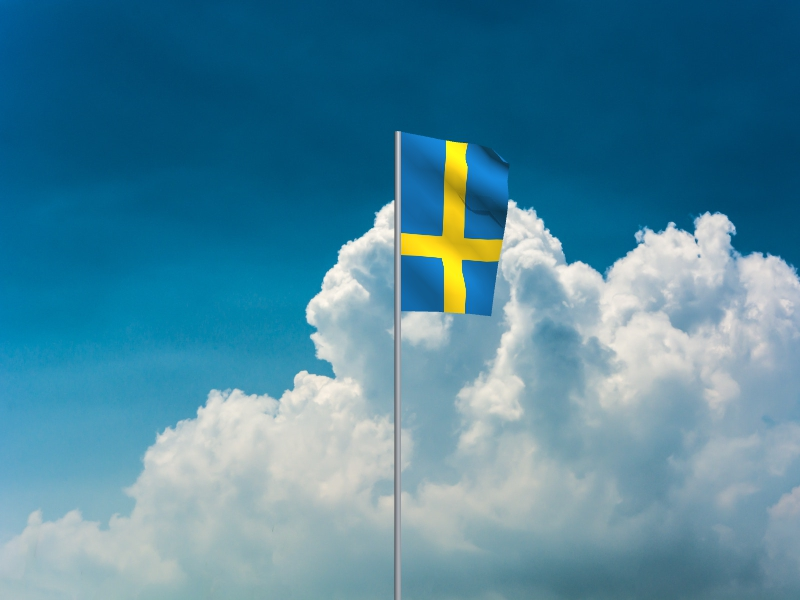se: (401, 133, 512, 318)
